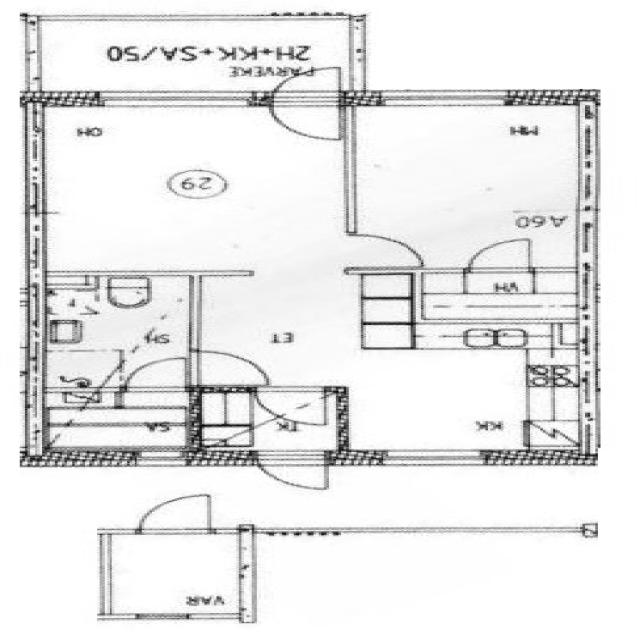door: (264, 63, 346, 144), (130, 491, 220, 538), (252, 451, 335, 496), (252, 385, 338, 428), (187, 347, 273, 390), (342, 229, 428, 271), (462, 236, 539, 276), (120, 353, 194, 394)
window: (90, 90, 261, 112), (367, 90, 518, 112), (372, 447, 493, 470)
zone: (37, 106, 349, 275), (348, 100, 584, 267), (328, 341, 589, 455), (35, 274, 193, 400), (413, 269, 582, 349), (103, 532, 252, 618), (45, 397, 200, 455)
